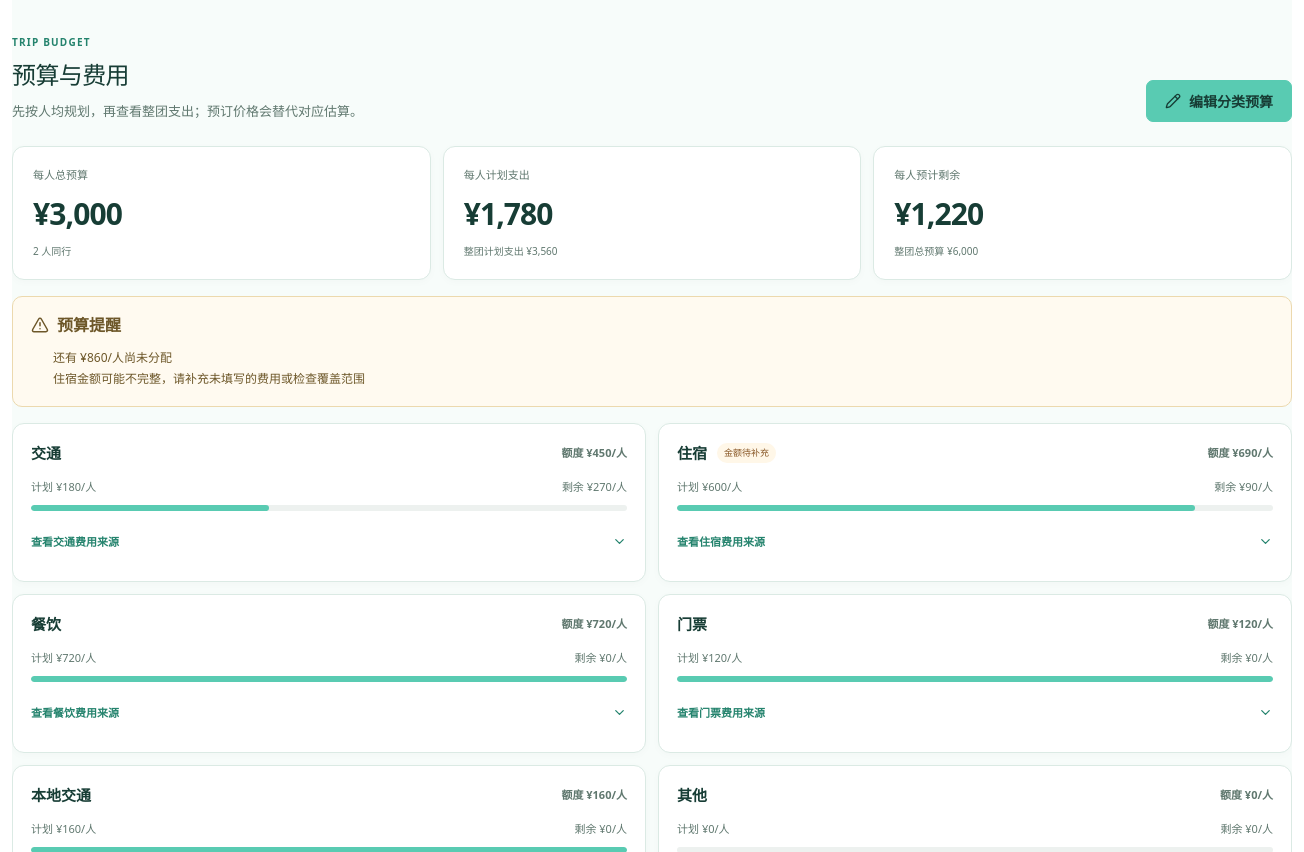
it: 展开交通来源只显示预算必要信息而不泄露预订隐私
Click the button "查看交通费用来源" at (97, 541), box [31,521,627,563]
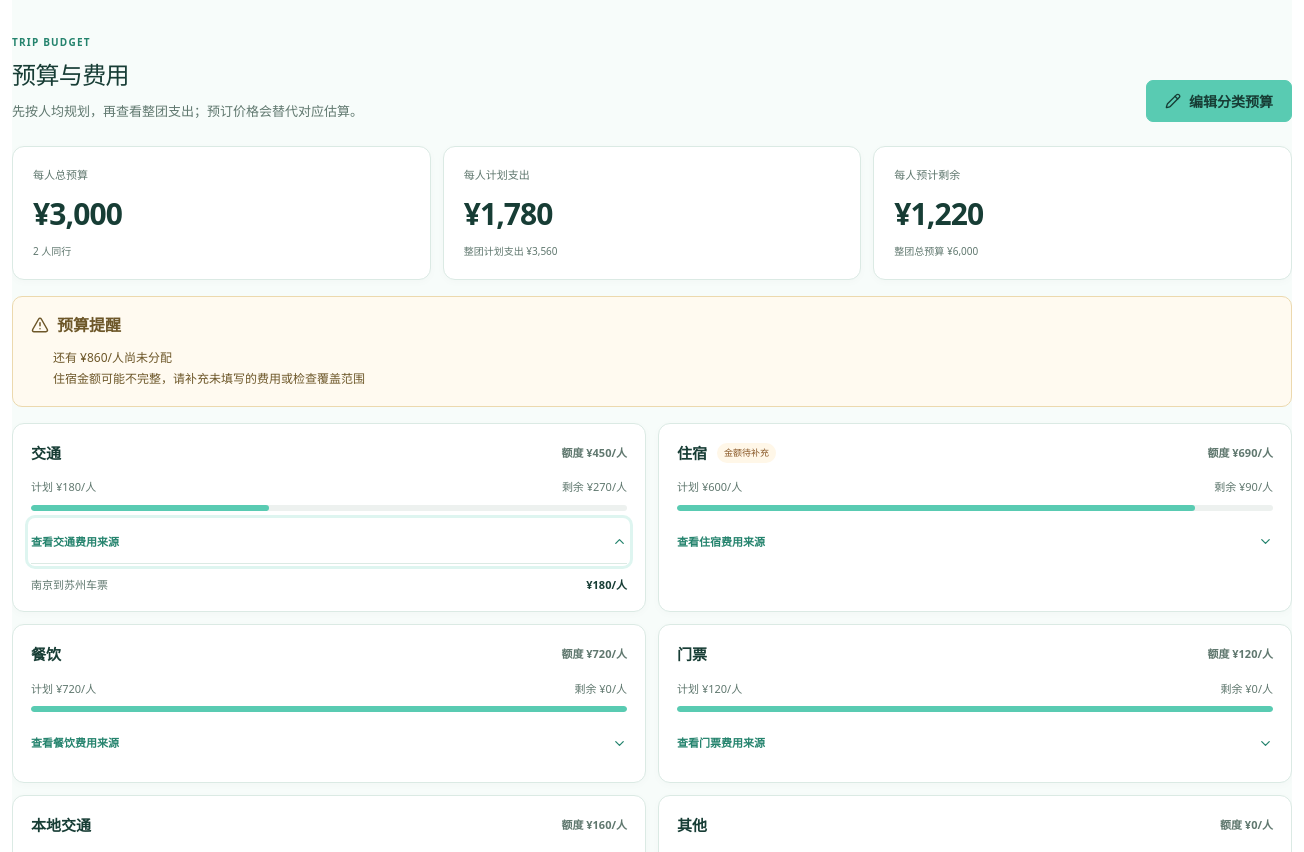
Expected: the text "南京到苏州车票" is shown, [31,577,108,593]
Expected: the text "¥180/人" is shown, [586,577,627,593]
